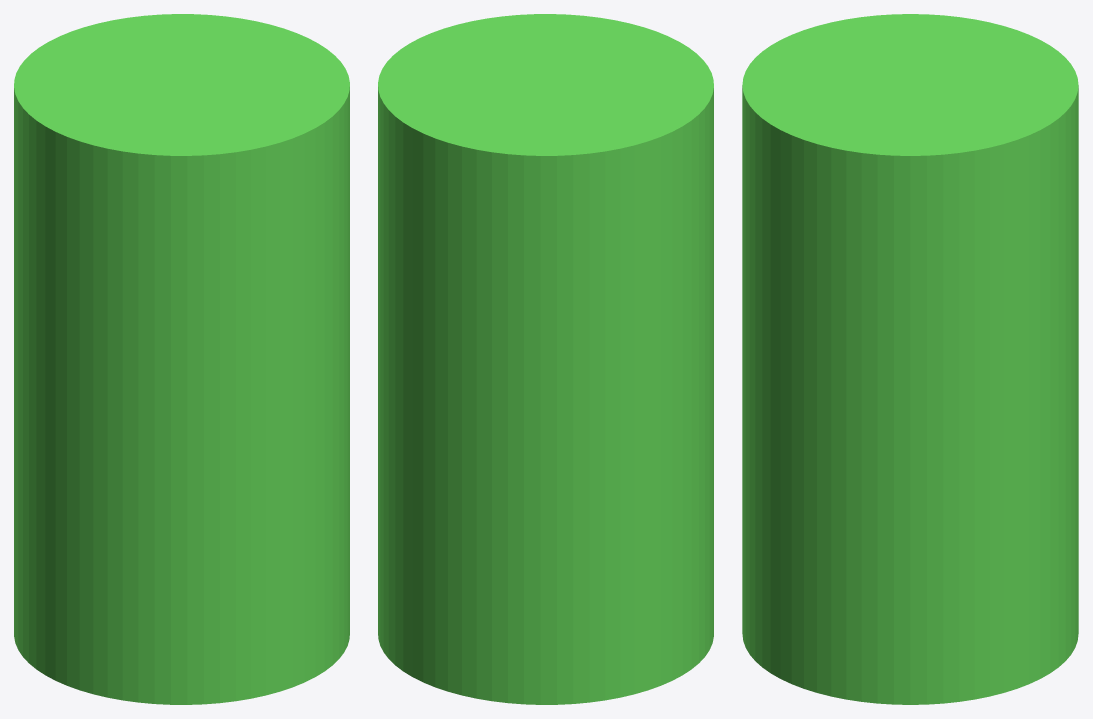
The picture shows the model from 3 angles, left to right: view 1: azimuth 30°, elevation 25°; view 2: azimuth 150°, elevation 25°; view 3: azimuth 270°, elevation 25°; orthographic projection.
Visible parts, largest first — view 1: Cylinder.021; view 2: Cylinder.021; view 3: Cylinder.021.
Part boxes in pixels (x1,y1,x2,y2): Cylinder.021: (14,14,349,704); Cylinder.021: (378,14,713,704); Cylinder.021: (742,14,1078,704).
Size of the model in its own units: 0.00563 by 0.0101 by 0.00563.
